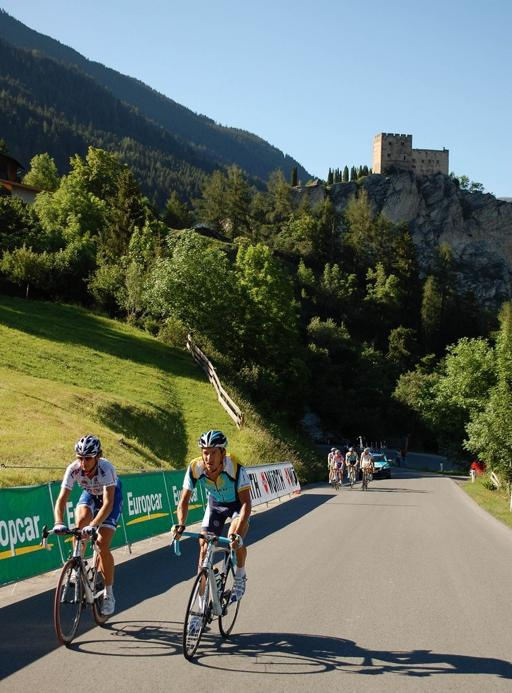non-vehicle: (170, 525, 239, 661), (40, 524, 109, 644)
